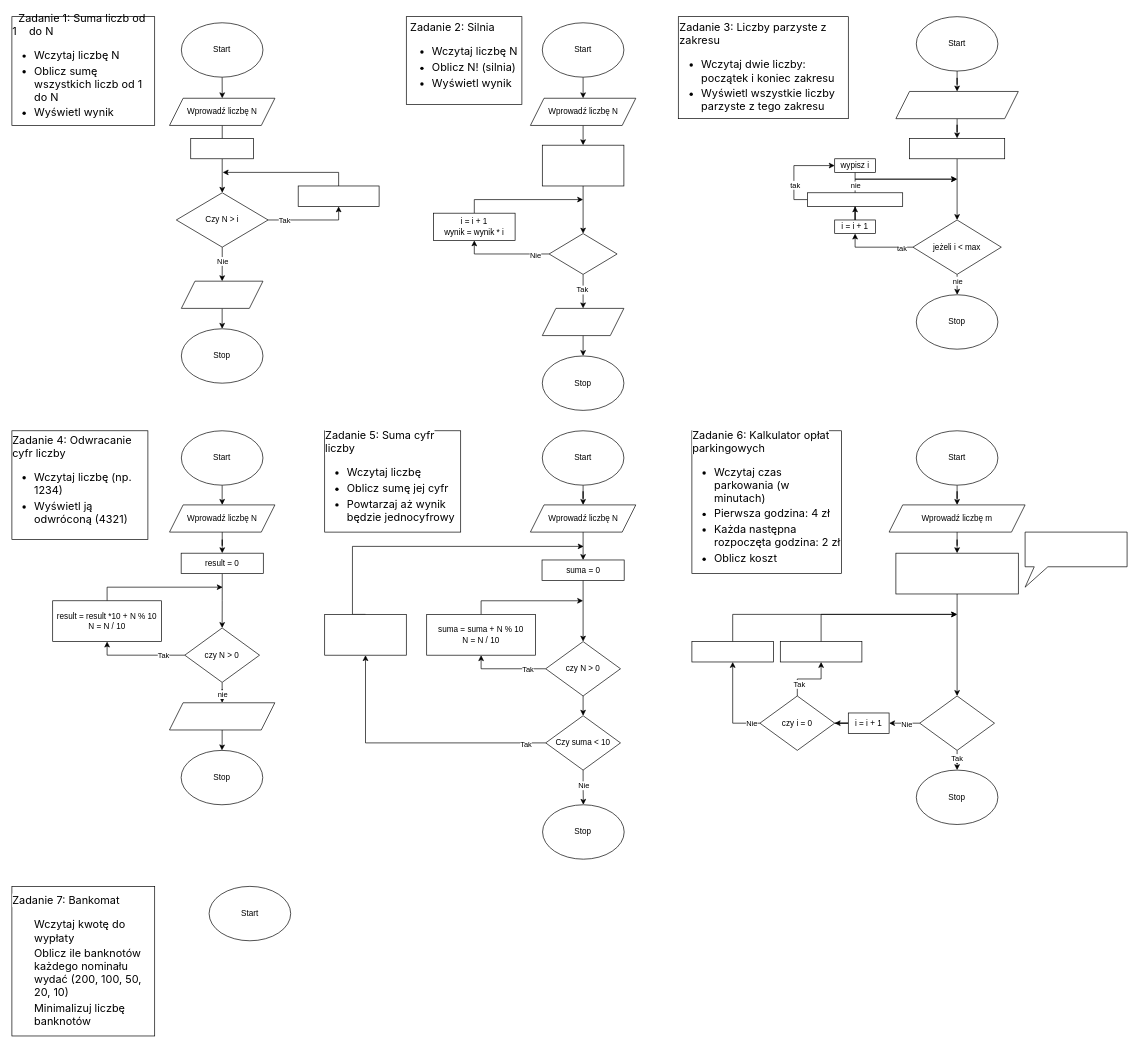
This 1139x1048 diagram has some shape labels left out. The box of each missing label's shape, as (x1, y1, x2, y2) in pixels:
ceil jest funkcją zwracającą podaną liczbę zaokrągloną do góry: (1024, 531, 1127, 587)
Czy i = N: (548, 233, 617, 274)
czy i > h: (919, 695, 995, 750)
i = 0 h = ceil(m / 60) koszt = 0: (895, 552, 1018, 594)
i = 0, suma = 0: (190, 138, 254, 159)
i = 1 wynik = 1: (542, 144, 624, 186)
jeżeli reszta od i / 2 to 0: (807, 192, 903, 206)
koszt = koszt + 2: (780, 641, 862, 662)
koszt = koszt + 4: (691, 641, 774, 662)
liczba i = min: (909, 138, 1005, 159)
N = suma: (324, 614, 406, 655)
suma = suma + i i = i + 1: (298, 185, 379, 206)
Wprowadź liczby min, max: (895, 91, 1018, 119)
Wypisz result: (169, 702, 275, 730)
Wypisz suma: (181, 280, 263, 308)
Wypisz wynik: (542, 308, 624, 336)
